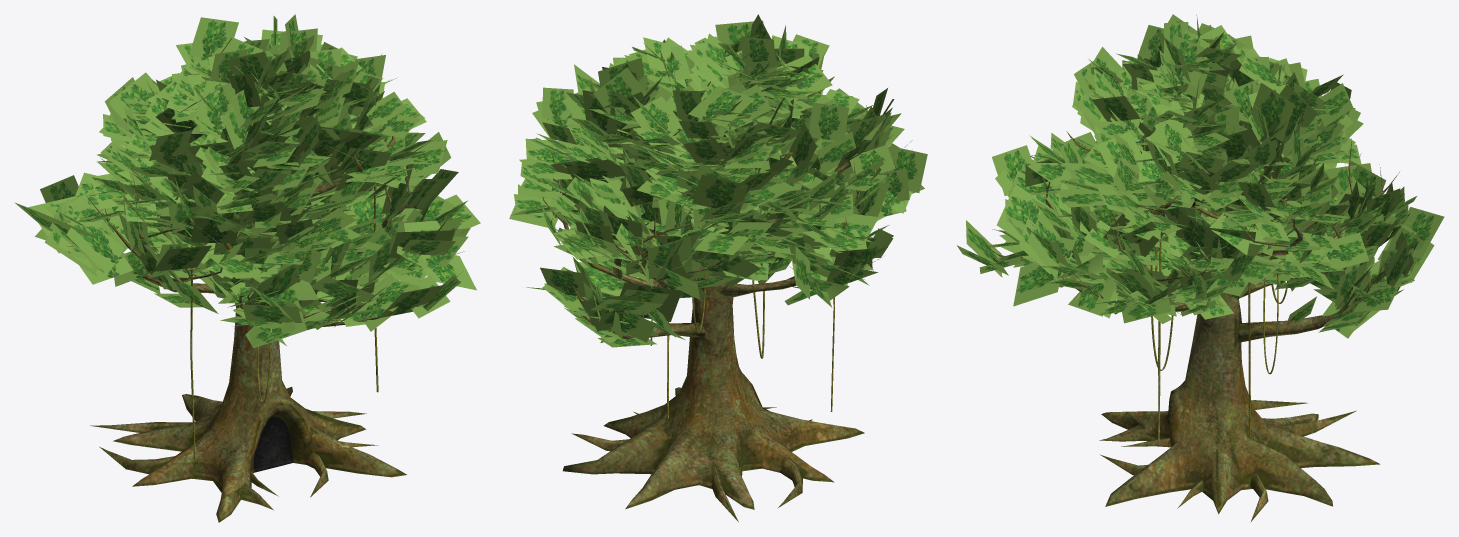
File: sb_obj_outdoor010_Landmark_WorldTree.fbx
3 renders of one model, left to right at view 1: azimuth 30°, elevation 25°; view 2: azimuth 150°, elevation 25°; view 3: azimuth 270°, elevation 25°, orthographic.
Visible parts, largest first — view 1: sb_obj_outdoor010_Landmark01_Worldtree; view 2: sb_obj_outdoor010_Landmark01_Worldtree; view 3: sb_obj_outdoor010_Landmark01_Worldtree.
Boxes of the visible parts, x1=… form: sb_obj_outdoor010_Landmark01_Worldtree: x1=14, y1=14, x2=480, y2=522; sb_obj_outdoor010_Landmark01_Worldtree: x1=509, y1=14, x2=927, y2=522; sb_obj_outdoor010_Landmark01_Worldtree: x1=956, y1=14, x2=1444, y2=522.
Bounding box in the file's own units: 2.61 × 2.83 × 2.92.
